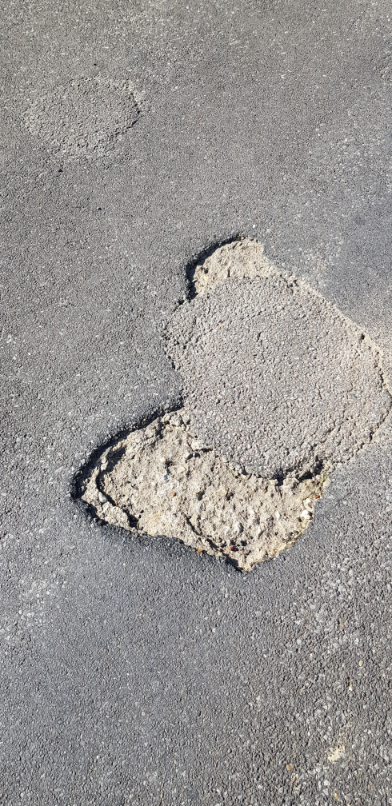pothole: (68, 398, 331, 580), (178, 233, 283, 299)
